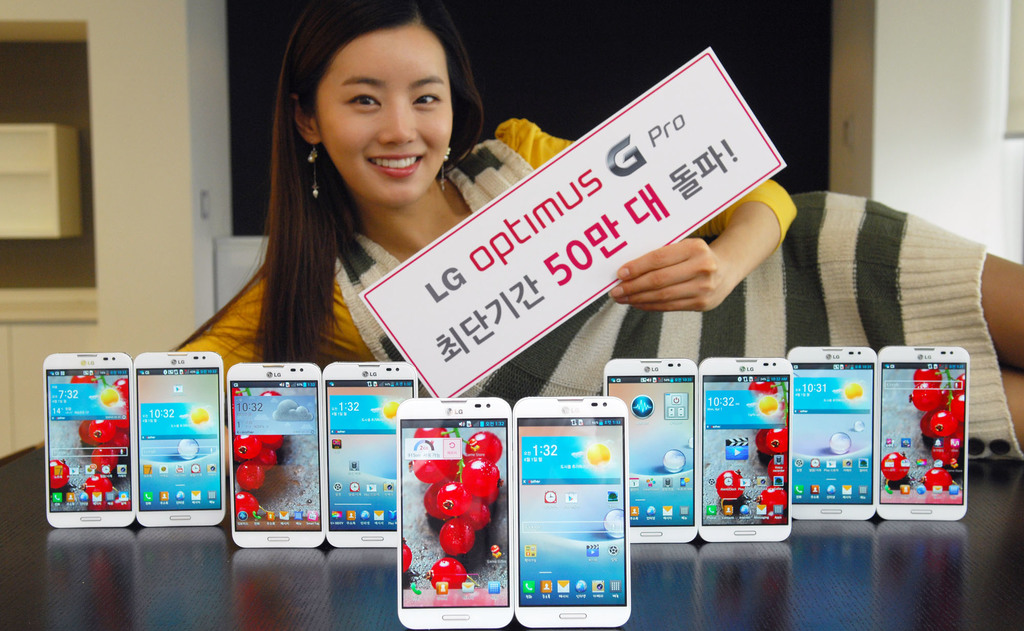Mobile-phone: (514, 397, 635, 630), (394, 399, 514, 630), (225, 362, 325, 546), (323, 362, 419, 548), (120, 360, 227, 525), (601, 357, 698, 539), (700, 358, 792, 543), (877, 345, 968, 521), (787, 345, 875, 521), (44, 352, 131, 530)
